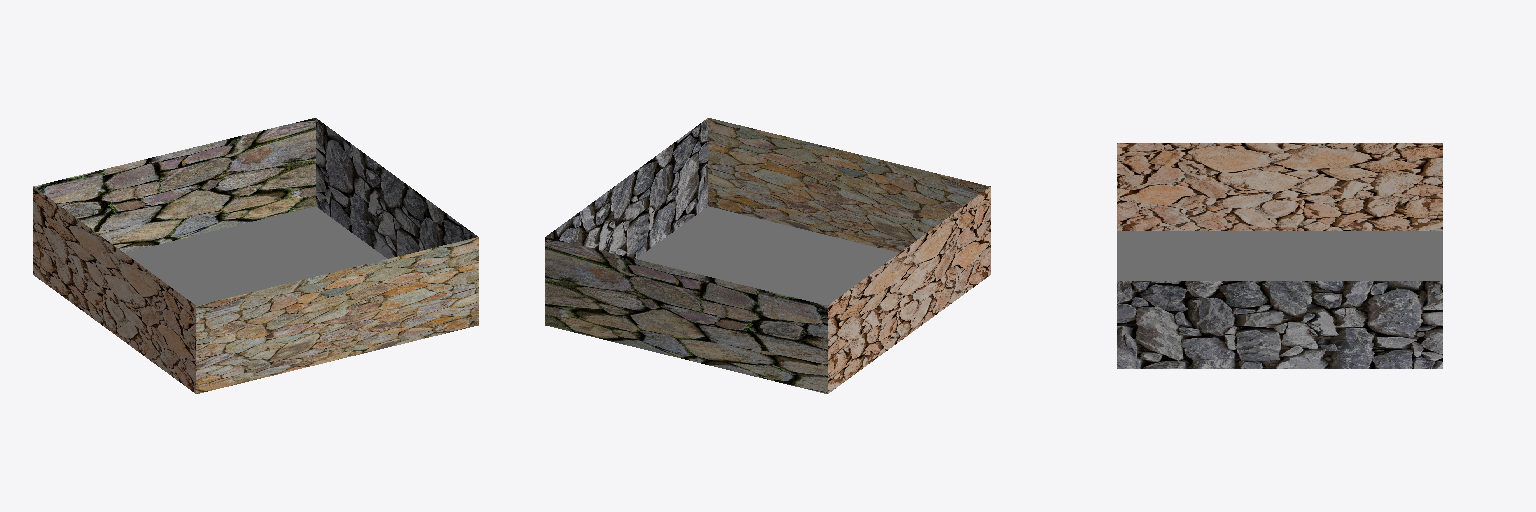
3 views of the same model, side by side, from view 1: azimuth 30°, elevation 25°; view 2: azimuth 150°, elevation 25°; view 3: azimuth 270°, elevation 25° (orthographic).
Parts seen in each view (by area): view 1: paredDos, paredUno, paredTres, Plane001, paredCuatro; view 2: paredUno, paredDos, paredTres, Plane001, paredCuatro; view 3: paredTres, paredCuatro, Plane001.
Boxes of the visible parts, <box> form: paredDos: <box>196,237,478,393</box>; paredUno: <box>33,118,315,252</box>; paredTres: <box>33,187,195,393</box>; Plane001: <box>125,206,386,305</box>; paredCuatro: <box>316,118,477,258</box>; paredUno: <box>545,237,827,393</box>; paredDos: <box>708,118,990,252</box>; paredTres: <box>828,187,990,393</box>; Plane001: <box>637,206,898,305</box>; paredCuatro: <box>546,118,707,258</box>; paredTres: <box>1117,143,1442,230</box>; paredCuatro: <box>1117,281,1442,368</box>; Plane001: <box>1117,231,1442,280</box>.
Bounding box in the file's own units: 100 × 30 × 100.
Materials: 5 (4 with a texture image).